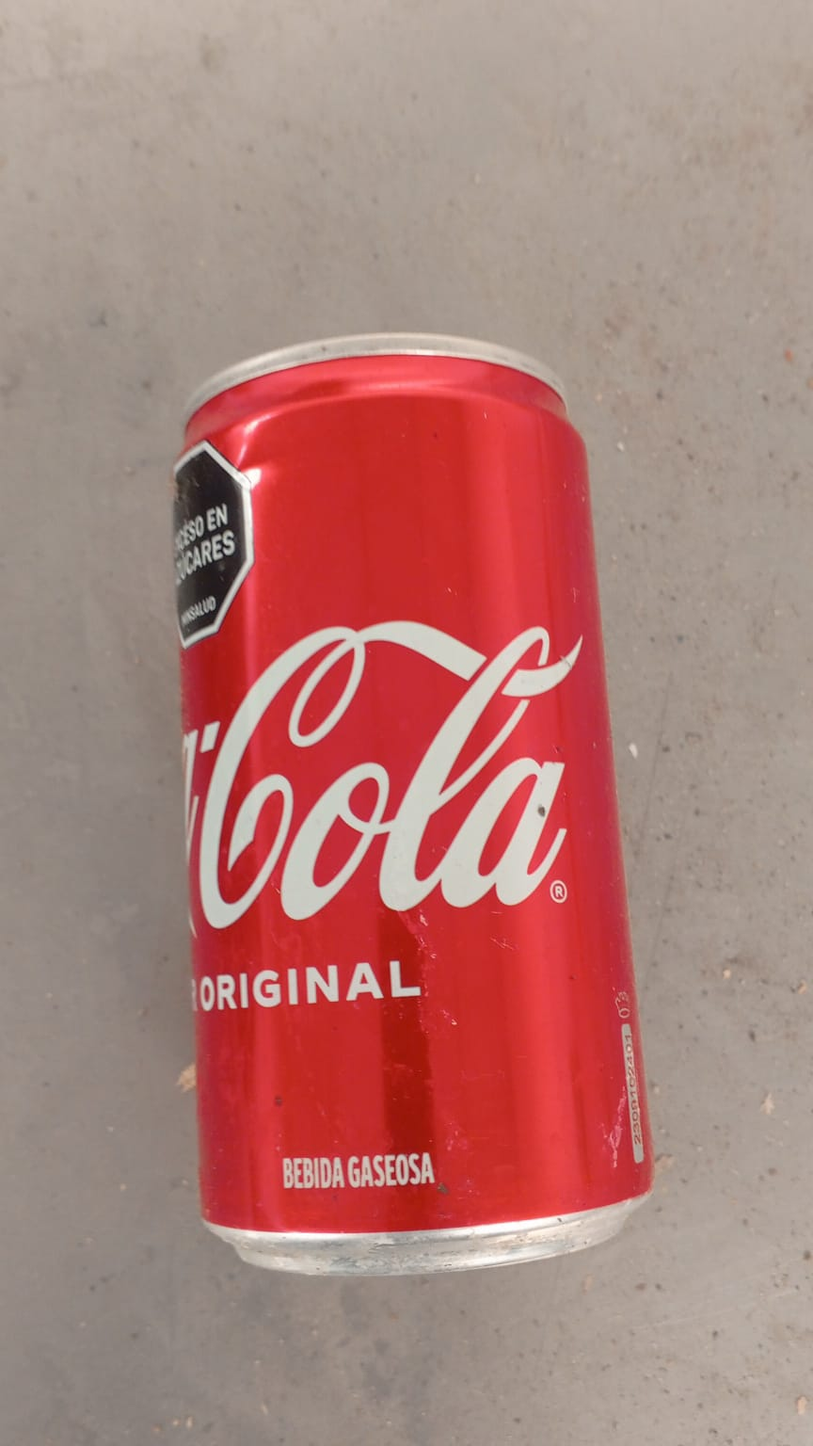Metal: (171, 335, 651, 1281)
